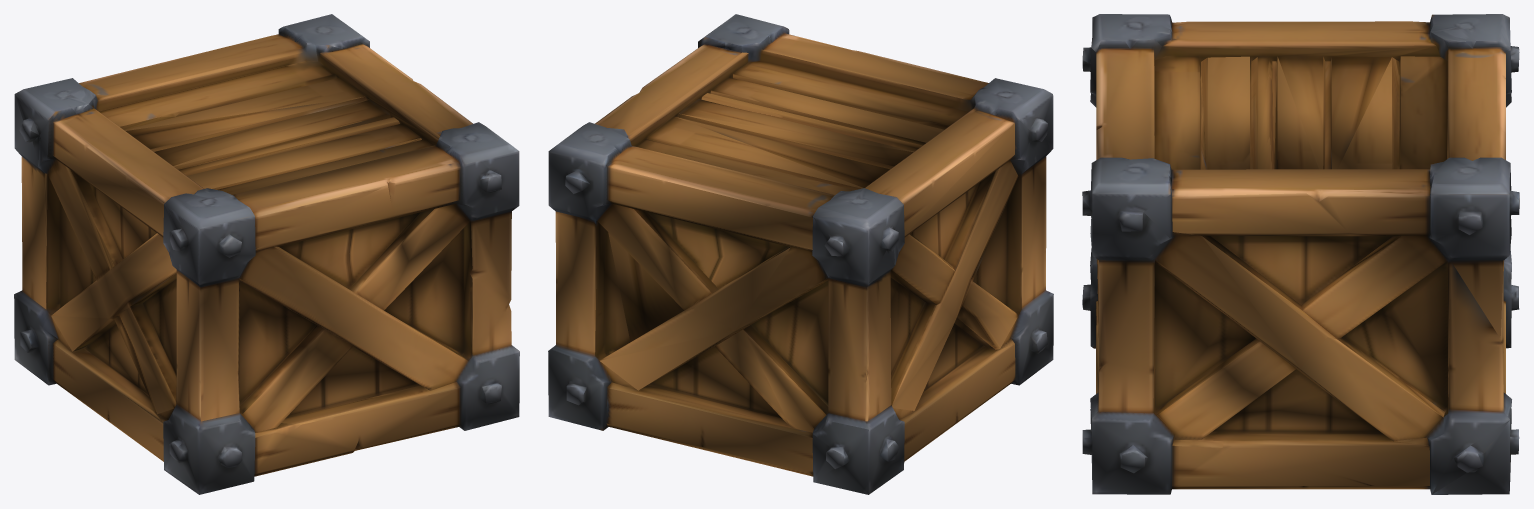
The model's file is Crate.fbx.
3 renders of one model, left to right at view 1: azimuth 30°, elevation 25°; view 2: azimuth 150°, elevation 25°; view 3: azimuth 270°, elevation 25°, orthographic. The views are drawn at different scales.
Parts seen in each view (by area): view 1: node_0; view 2: node_0; view 3: node_0.
Boxes of the visible parts, <box> form: node_0: <box>14,14,519,494</box>; node_0: <box>548,14,1053,494</box>; node_0: <box>1082,14,1519,494</box>.
Size of the model in its own units: 77.31 by 60.69 by 77.37.
Materials: 1 (1 with a texture image).
